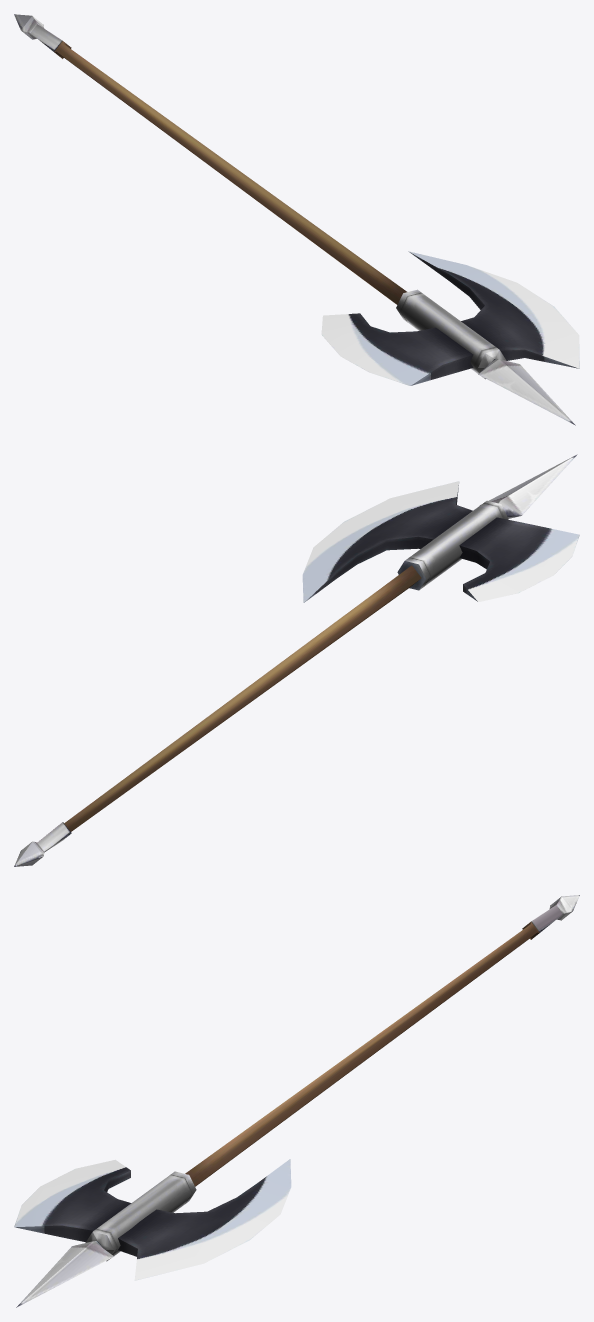
The model's file is lance0018.fbx.
The picture shows the model from 3 angles, top to bottom: view 1: azimuth 30°, elevation 25°; view 2: azimuth 150°, elevation 25°; view 3: azimuth 330°, elevation 25°; orthographic projection.
Visible parts, largest first — view 1: lance0018_m; view 2: lance0018_m; view 3: lance0018_m.
Part boxes in pixels (x1,y1,x2,y2): lance0018_m: (14,14,579,425); lance0018_m: (14,454,579,866); lance0018_m: (14,895,579,1307).
Size of the model in its own units: 0.3102 by 0.0366 by 1.43.
1 material, 1 textured.
